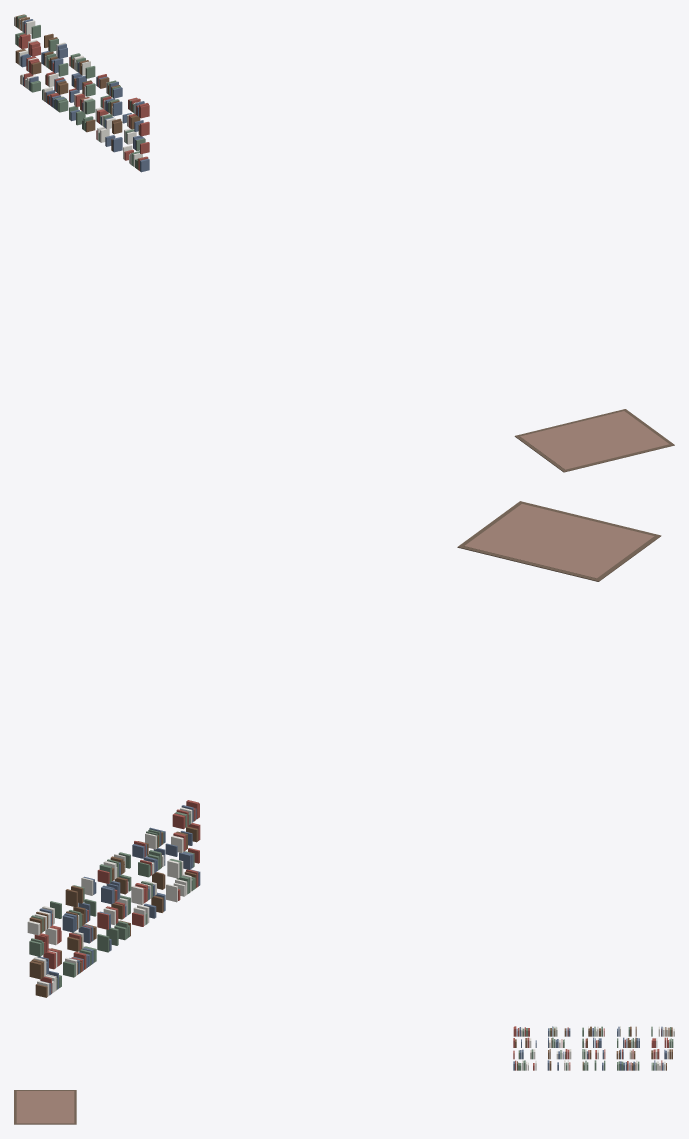
File: fine-s2.glb
3 views of the same model, one above another, from view 1: azimuth 30°, elevation 25°; view 2: azimuth 150°, elevation 25°; view 3: azimuth 270°, elevation 25° (orthographic). The views are drawn at different scales.
Visible parts, largest first — view 1: soft-s2; view 2: soft-s2; view 3: soft-s2.
Boxes of the visible parts, left/top/right/bottom form: soft-s2: left=14, top=14, right=674, bottom=472; soft-s2: left=27, top=501, right=661, bottom=997; soft-s2: left=14, top=1026, right=674, bottom=1124.
Bounding box in the file's own units: 3.3 × 1.92 × 21.07.
